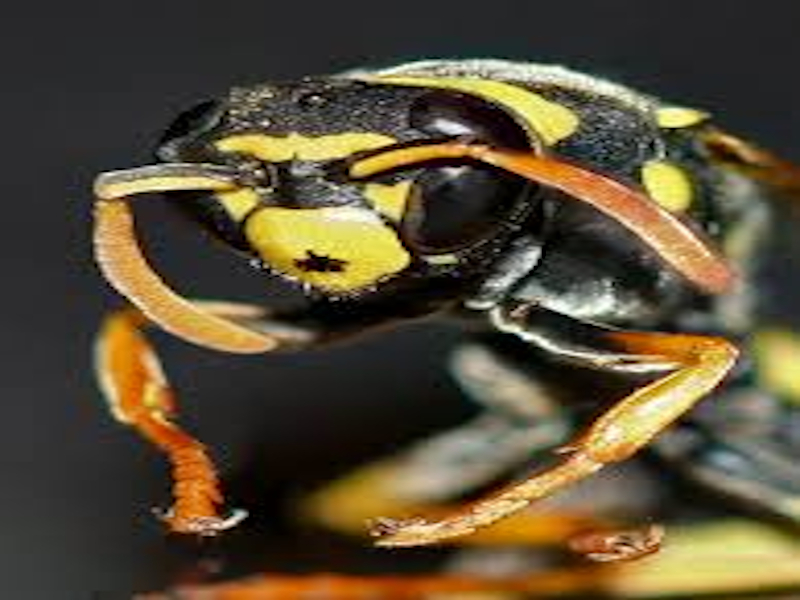chax: (77, 27, 787, 512)
